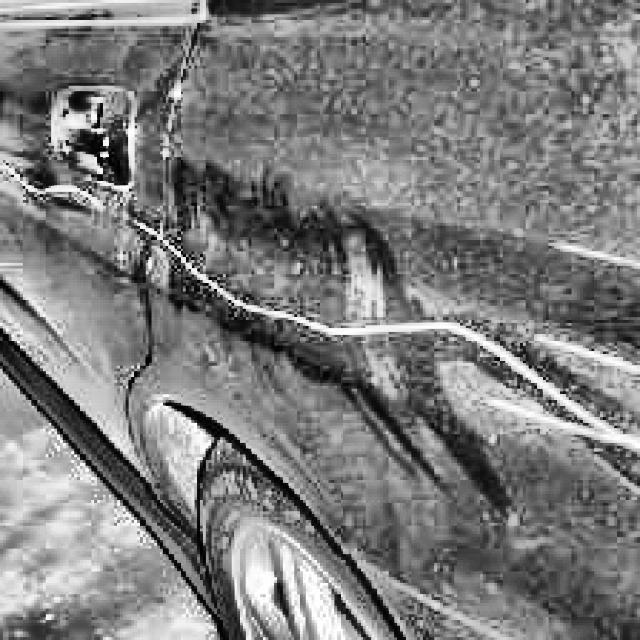door_scratch: (179, 240, 454, 366), (465, 316, 640, 466), (23, 162, 121, 232)
